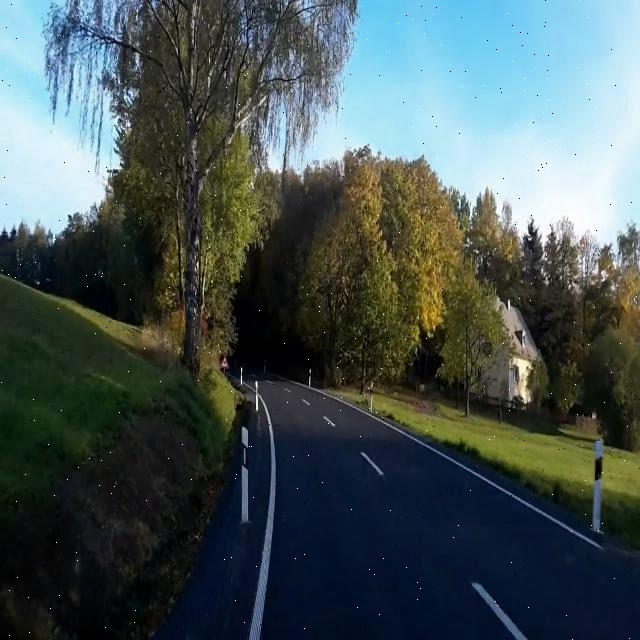lane: (316, 391, 604, 550), (249, 396, 276, 640), (472, 582, 528, 639), (361, 451, 384, 478)
road: (154, 379, 640, 639)
